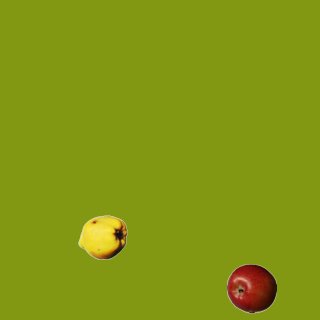Apple Braeburn: (226, 263, 276, 313)
Quince: (77, 212, 127, 262)
